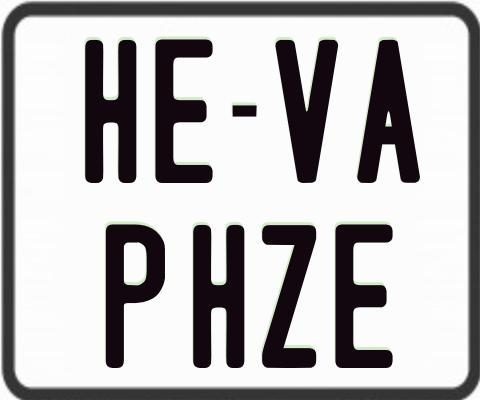A: (357, 38, 426, 183)
E: (332, 222, 392, 368), (154, 38, 213, 186)
H: (84, 39, 138, 188), (192, 222, 247, 366)
P: (103, 221, 168, 365)
V: (274, 37, 340, 183)
Z: (261, 225, 319, 373)
